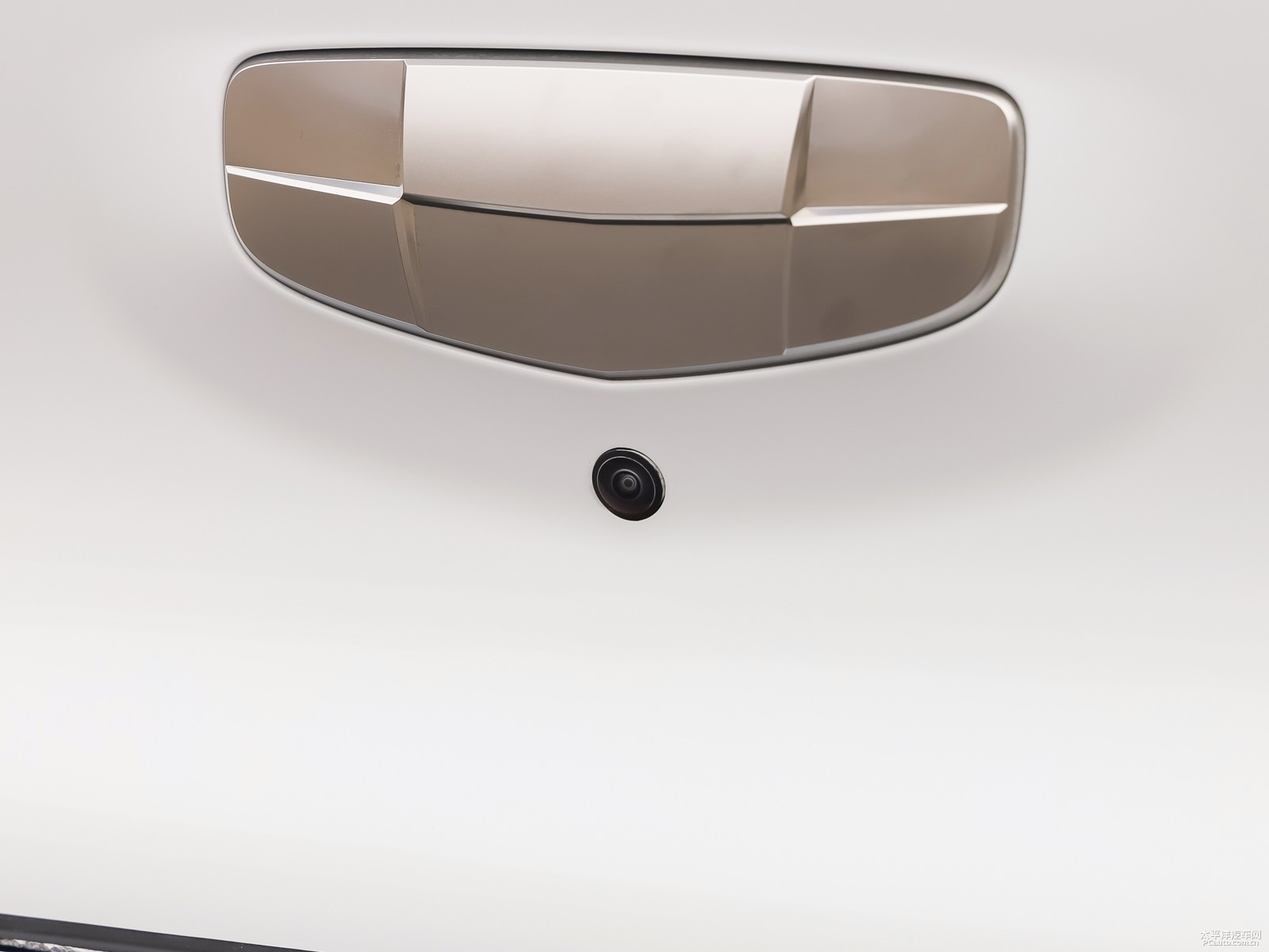GEOMETRY: (223, 60, 1023, 371)
